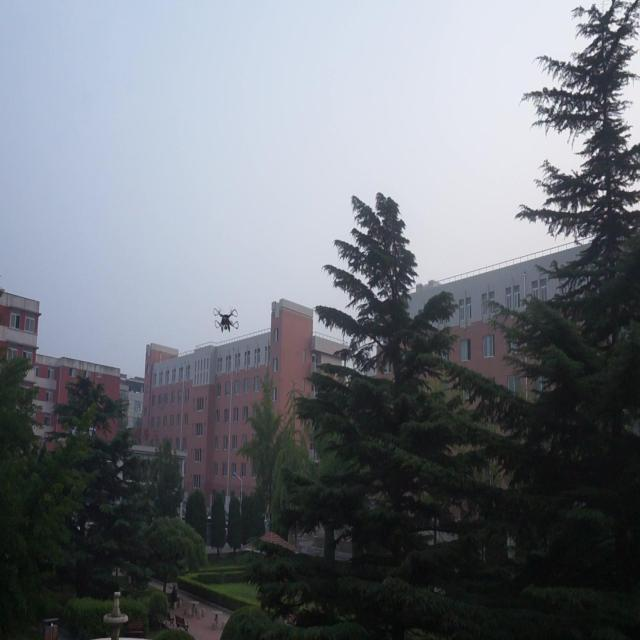drone: (213, 306, 239, 332)
